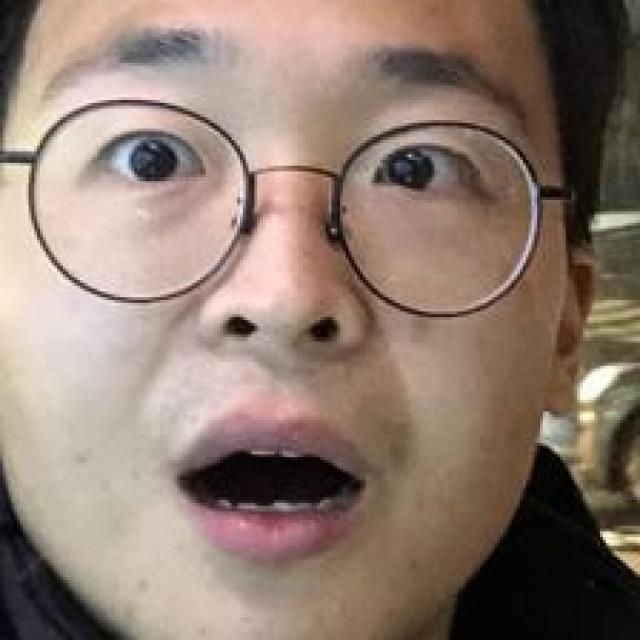surprise: (17, 12, 559, 602)
